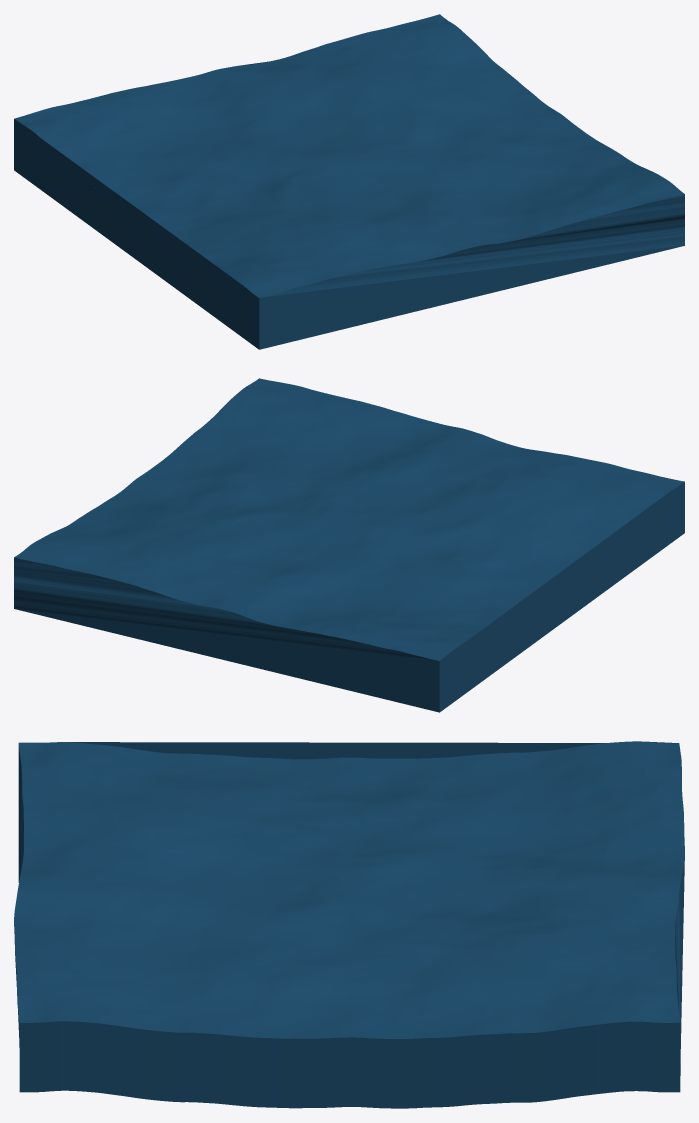
Rendered from texturaagua 1.fbx.
3 renders of one model, top to bottom at view 1: azimuth 30°, elevation 25°; view 2: azimuth 150°, elevation 25°; view 3: azimuth 270°, elevation 25°, orthographic. The views are drawn at different scales.
Parts seen in each view (by area): view 1: AGUA; view 2: AGUA; view 3: AGUA.
Boxes of the visible parts, box(x1,y1,x2,y2) form: AGUA: box(14, 14, 684, 349); AGUA: box(14, 378, 684, 712); AGUA: box(14, 741, 684, 1108).
Size of the model in its own units: 19747 by 2910 by 19984.
